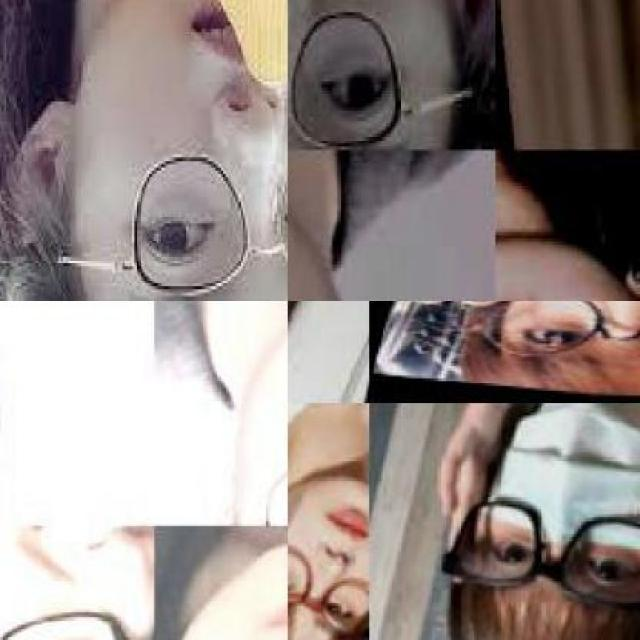mask: (288, 0, 487, 151), (51, 156, 286, 282), (428, 490, 640, 612), (471, 300, 638, 377), (288, 538, 370, 638)
